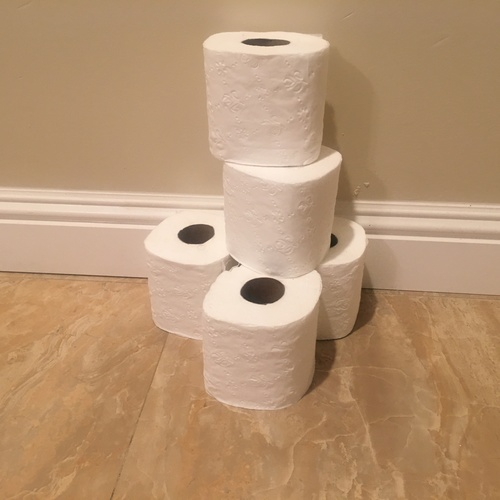roll: (199, 260, 322, 410), (201, 30, 330, 168), (219, 143, 342, 278), (144, 208, 244, 339), (317, 219, 367, 341)
